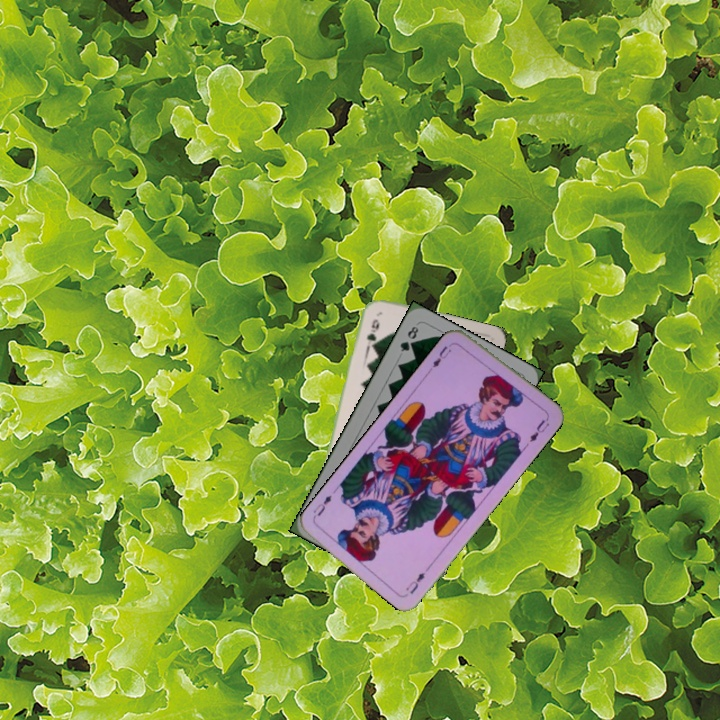EU: (402, 562, 433, 597), (425, 342, 454, 373)
G8: (396, 322, 421, 354)
G9: (363, 315, 382, 344)
